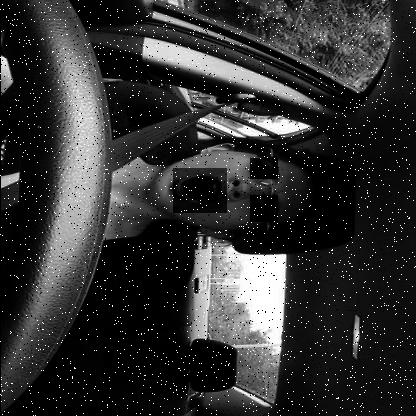seatbelt: (0, 118, 344, 264)
